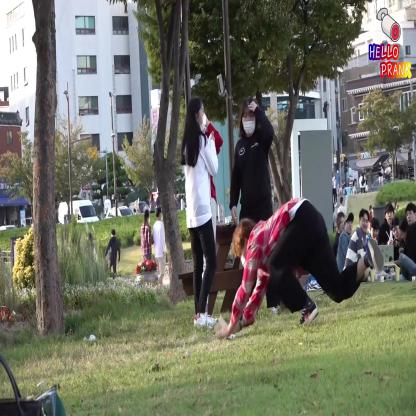Fall_Down: (214, 195, 385, 340)
